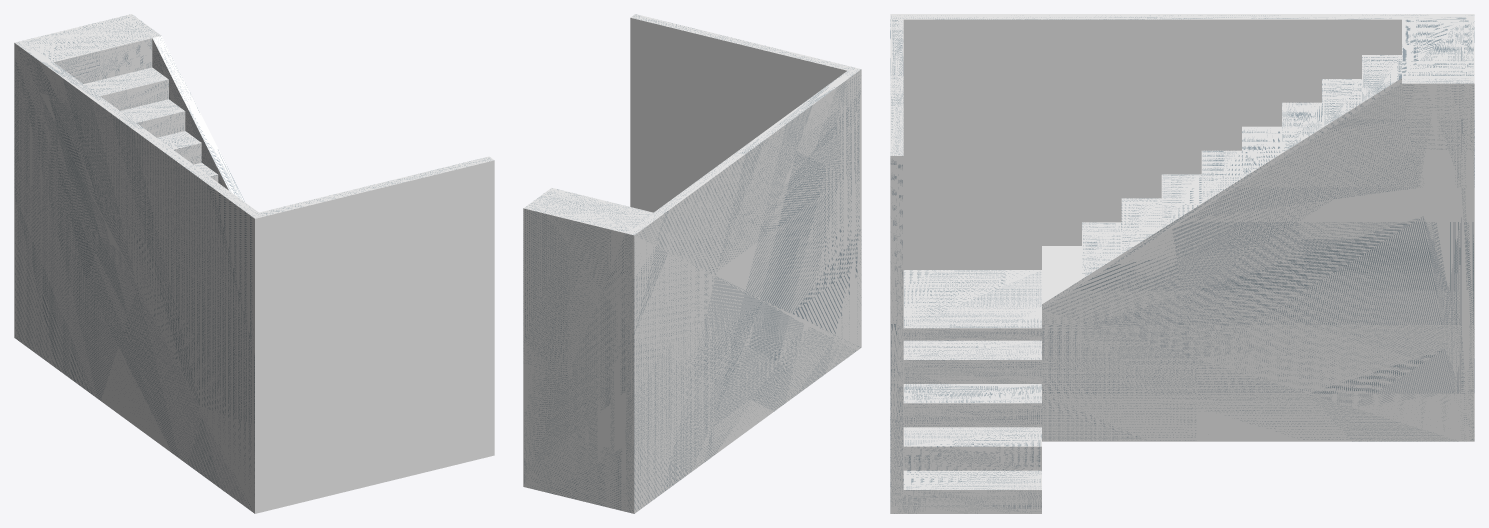
The picture shows the model from 3 angles, left to right: view 1: azimuth 30°, elevation 25°; view 2: azimuth 150°, elevation 25°; view 3: azimuth 270°, elevation 25°; orthographic projection. The views are drawn at different scales.
Visible parts, largest first — view 1: SketchUp (×2), Staircase; view 2: SketchUp (×2), Staircase; view 3: SketchUp (×2), Staircase (×2).
Boxes of the visible parts, <box> form: SketchUp (×2): <box>14,14,494,513</box>; Staircase: <box>29,20,218,182</box>; SketchUp (×2): <box>523,14,861,513</box>; Staircase: <box>538,190,653,229</box>; SketchUp (×2): <box>890,14,1474,513</box>; Staircase (×2): <box>903,19,1461,513</box>.
Bounding box in the file's own units: 102 × 177 × 120.
